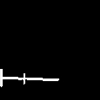double_crochet: (0, 69, 58, 86)
